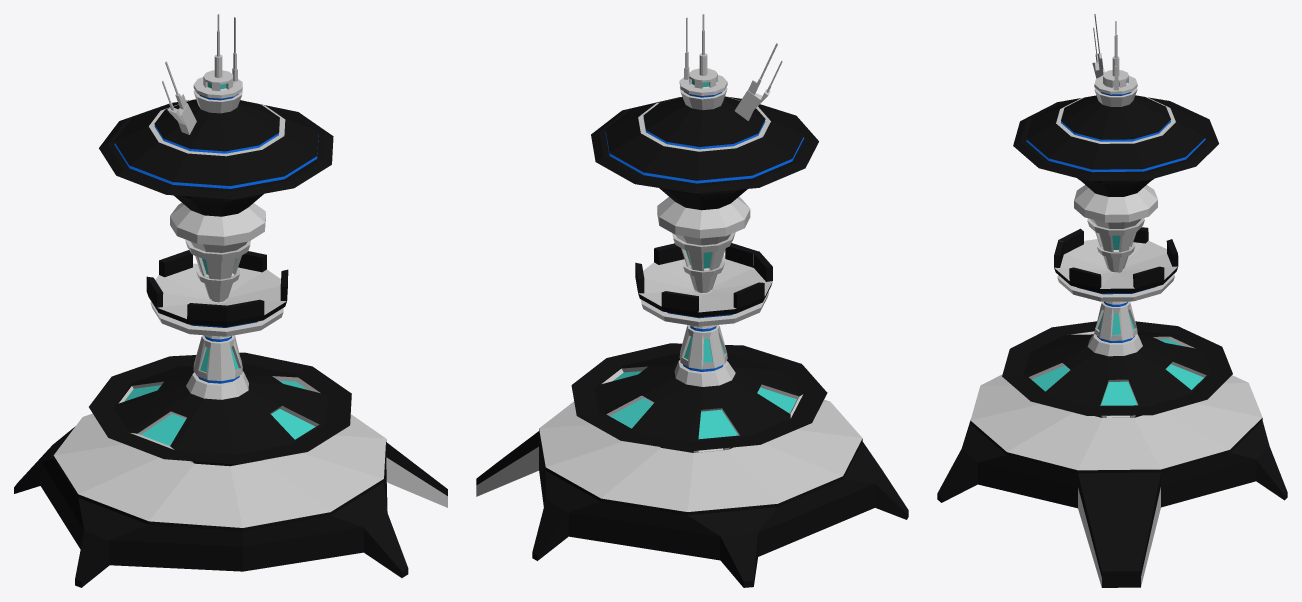
The model's file is background building 5.fbx.
3 renders of one model, left to right at view 1: azimuth 30°, elevation 25°; view 2: azimuth 150°, elevation 25°; view 3: azimuth 270°, elevation 25°, orthographic. The views are drawn at different scales.
Parts seen in each view (by area): view 1: Cylinder (×4); view 2: Cylinder (×4); view 3: Cylinder (×4).
Boxes of the visible parts, left/top/right/bottom form: Cylinder (×4): left=14, top=14, right=447, bottom=587; Cylinder (×4): left=476, top=14, right=908, bottom=587; Cylinder (×4): left=937, top=14, right=1287, bottom=587.
Size of the model in its own units: 13021 by 16929 by 11378.
